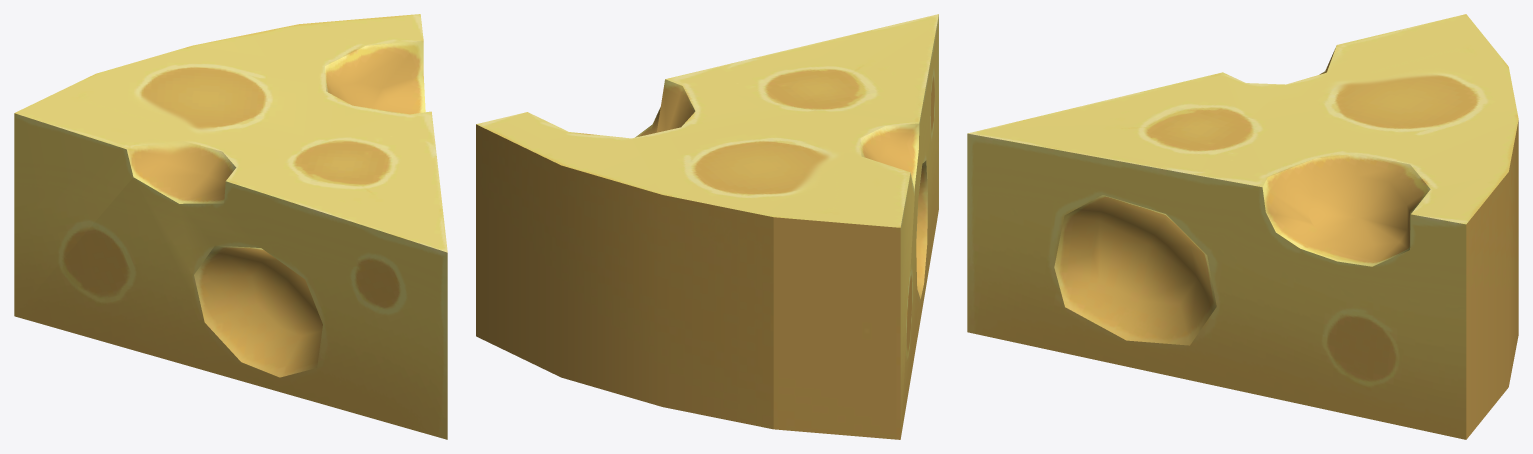
Rendered from cheese.glb.
3 views of the same model, side by side, from view 1: azimuth 30°, elevation 25°; view 2: azimuth 150°, elevation 25°; view 3: azimuth 270°, elevation 25° (orthographic). The views are drawn at different scales.
Size of the model in its own units: 0.9169 by 0.4378 by 1.02.
Materials: 1 (1 with a texture image).
